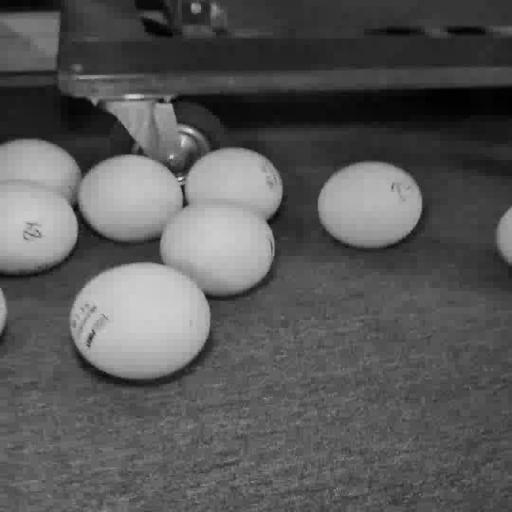fuel: (70, 263, 210, 380), (160, 202, 274, 296), (78, 155, 183, 242), (318, 162, 422, 249), (0, 181, 78, 274), (185, 148, 283, 220), (0, 139, 81, 205), (496, 207, 511, 266), (0, 289, 7, 335)
